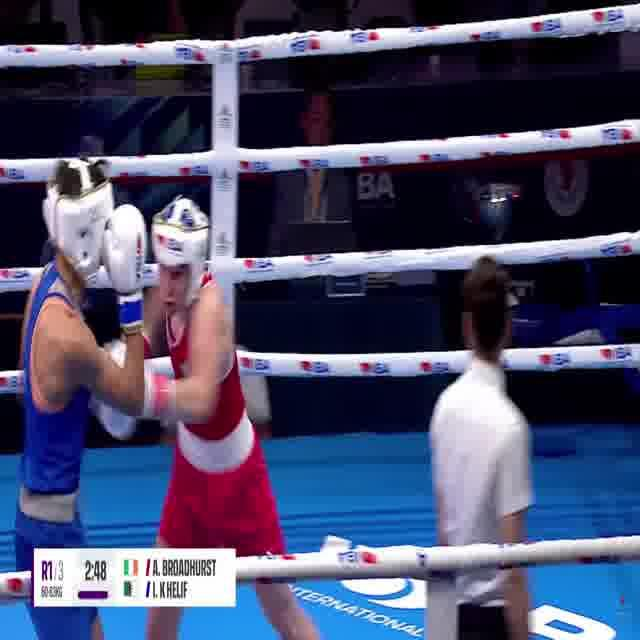blue-player: (15, 150, 150, 640)
red-player: (100, 187, 328, 640)
referee: (426, 247, 541, 640)
